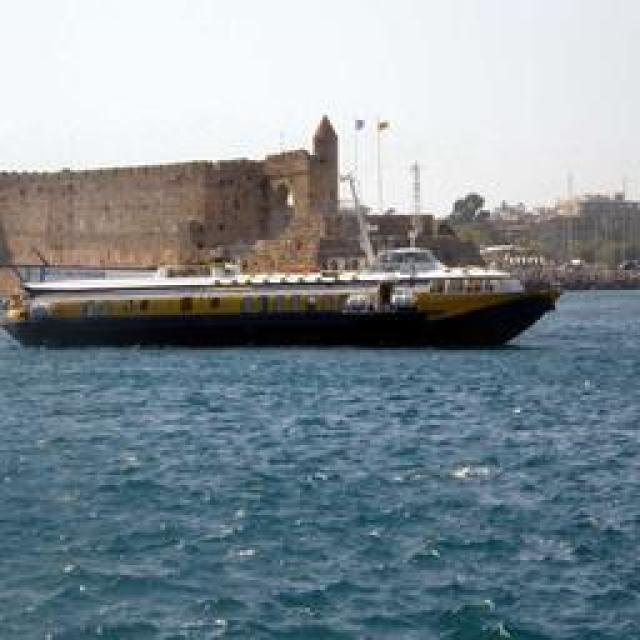ship2: (4, 172, 563, 347)
